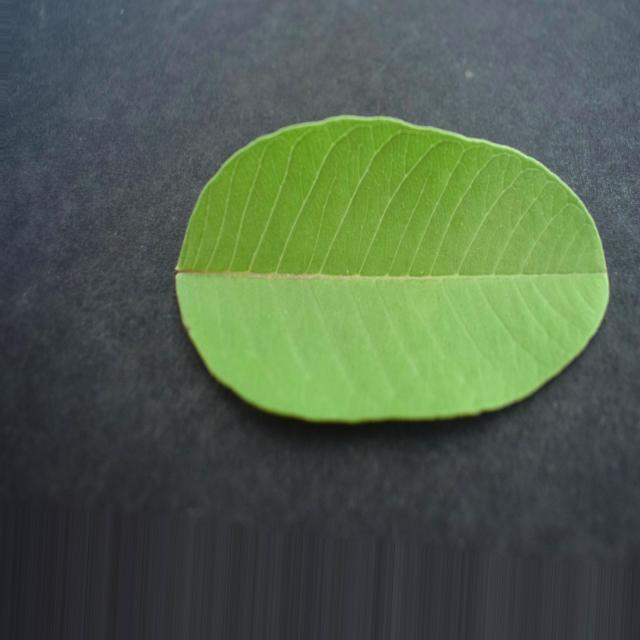Healthy: (176, 116, 609, 422)
